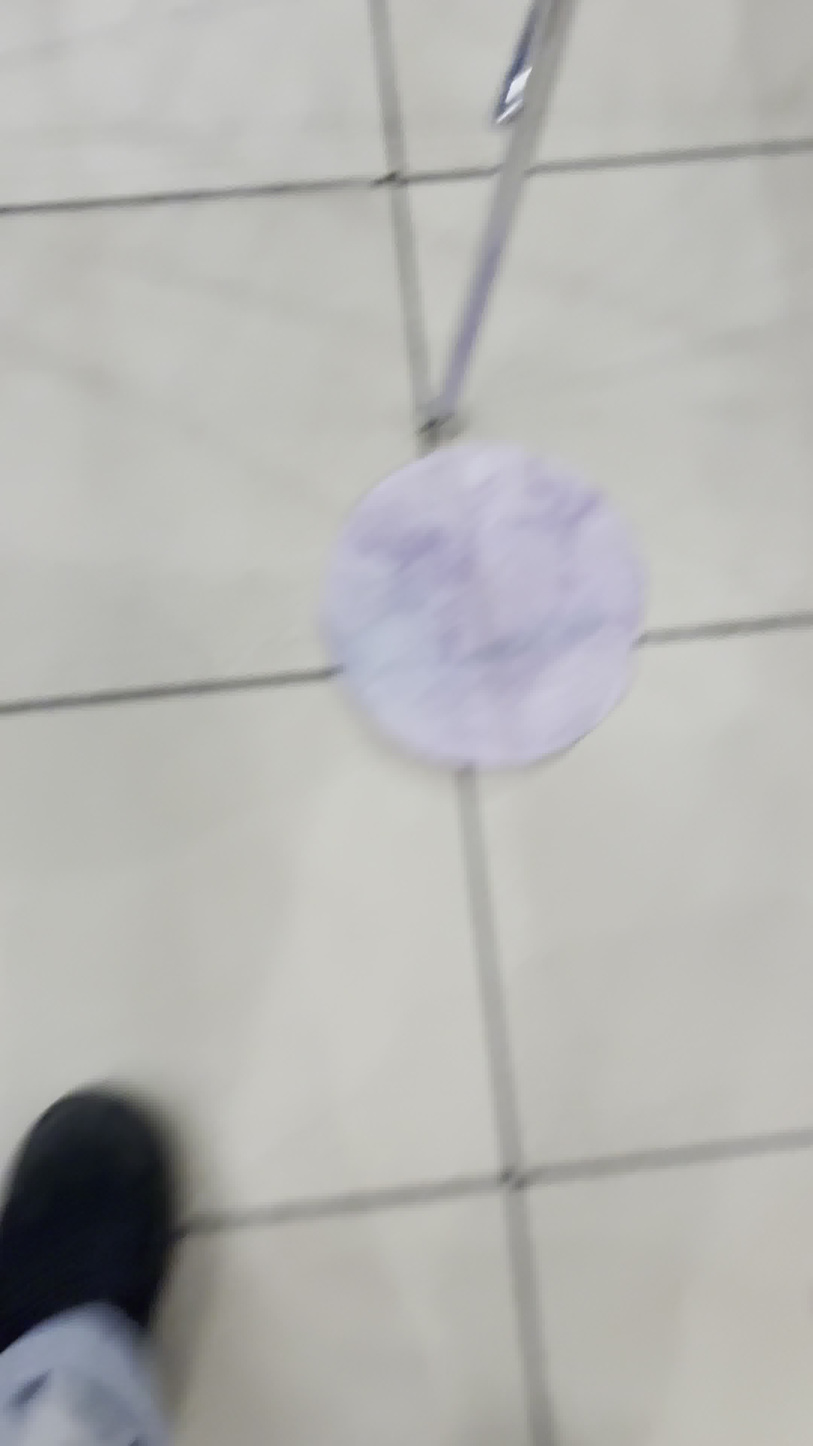Target: (307, 446, 654, 764)
